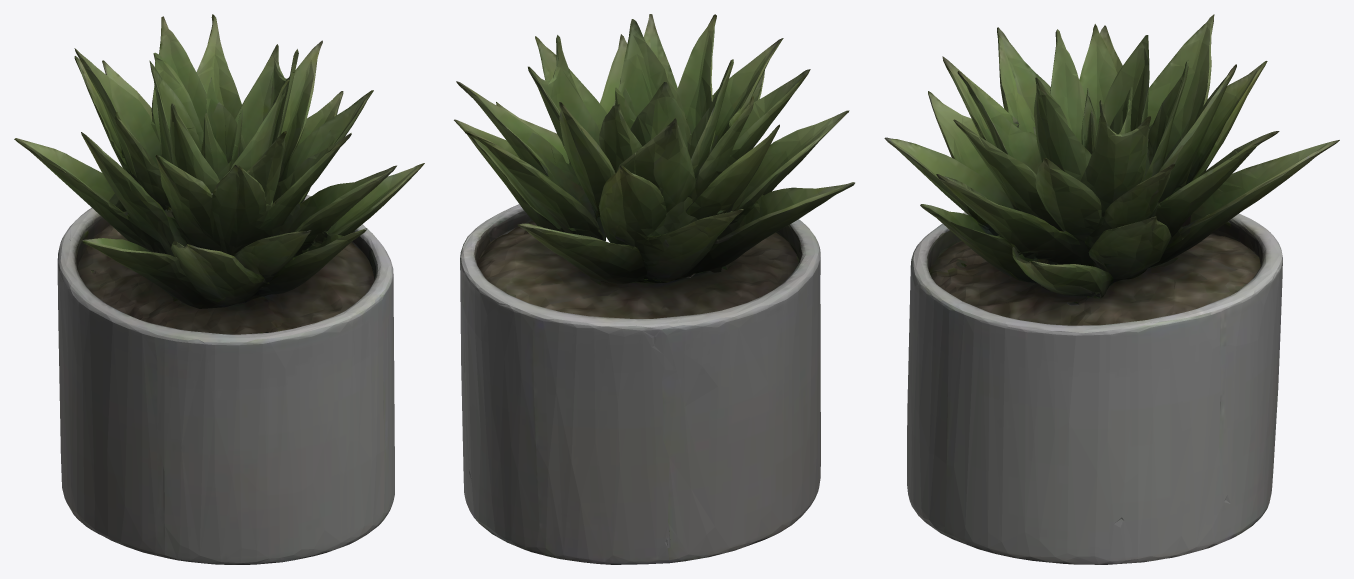
The model's file is desk_plant.glb.
3 renders of one model, left to right at view 1: azimuth 30°, elevation 25°; view 2: azimuth 150°, elevation 25°; view 3: azimuth 270°, elevation 25°, orthographic. The views are drawn at different scales.
Parts seen in each view (by area): view 1: geometry_0; view 2: geometry_0; view 3: geometry_0.
Part boxes in pixels (x1=…): geometry_0: x1=14, y1=14, x2=424, y2=564; geometry_0: x1=454, y1=14, x2=854, y2=564; geometry_0: x1=884, y1=14, x2=1339, y2=564.
Bounding box in the file's own units: 0.8487 × 1 × 0.9512.
1 material, 1 textured.
